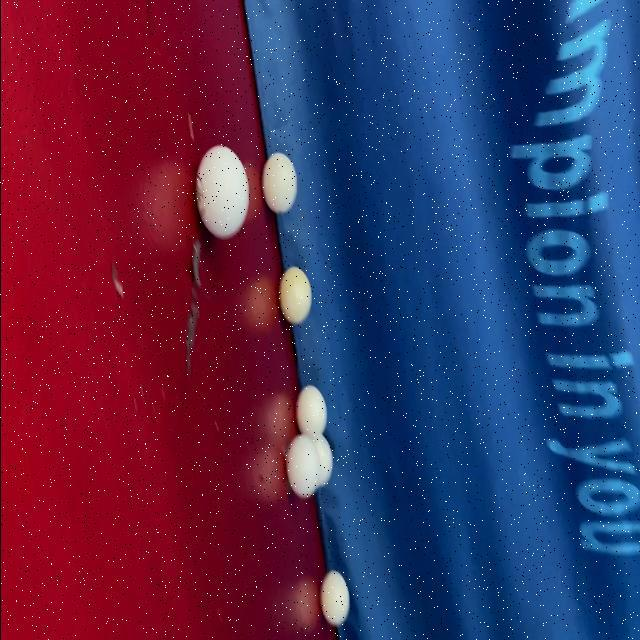ping-pong-ball: (192, 141, 250, 247), (258, 147, 298, 217), (276, 259, 314, 331), (316, 563, 350, 633)
